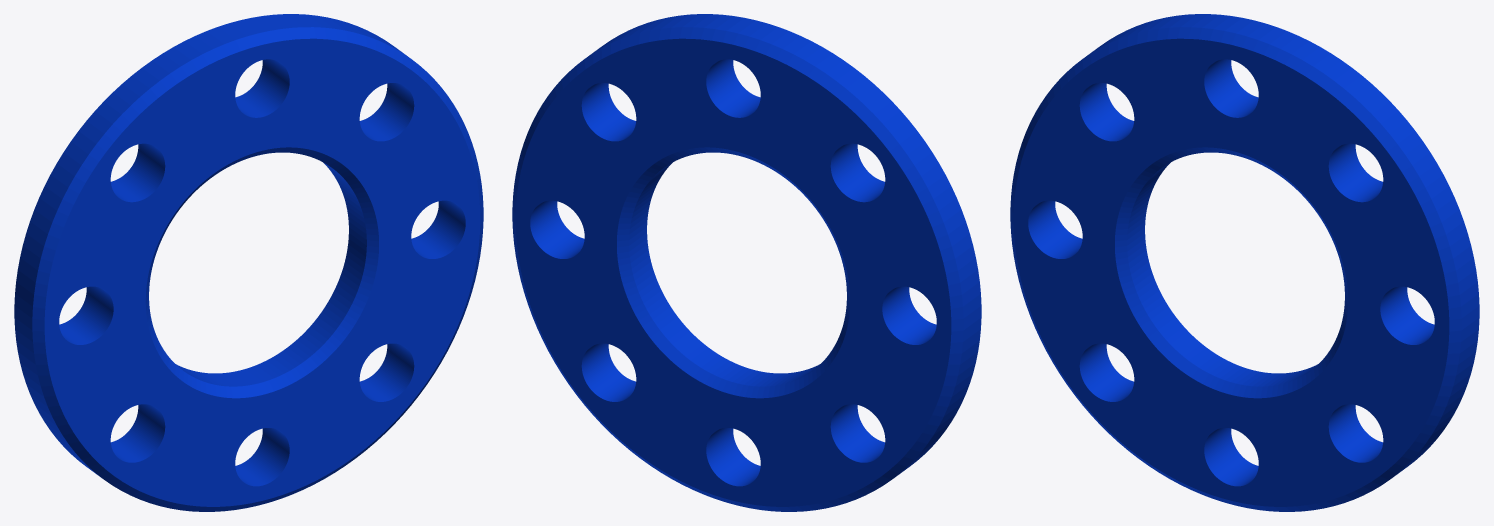
File: 76294 - 3mm pattern spacer.dae
The picture shows the model from 3 angles, left to right: view 1: azimuth 30°, elevation 25°; view 2: azimuth 150°, elevation 25°; view 3: azimuth 330°, elevation 25°; orthographic projection.
Visible parts, largest first — view 1: node_8a40a995_6c76_45f5_a018_c7db74a08932_mesh0; view 2: node_8a40a995_6c76_45f5_a018_c7db74a08932_mesh0; view 3: node_8a40a995_6c76_45f5_a018_c7db74a08932_mesh0.
Part boxes in pixels (x1,y1,x2,y2): node_8a40a995_6c76_45f5_a018_c7db74a08932_mesh0: (14,14,483,511); node_8a40a995_6c76_45f5_a018_c7db74a08932_mesh0: (512,14,981,511); node_8a40a995_6c76_45f5_a018_c7db74a08932_mesh0: (1010,14,1479,511).
Size of the model in its own units: 28.99 by 3 by 29.
